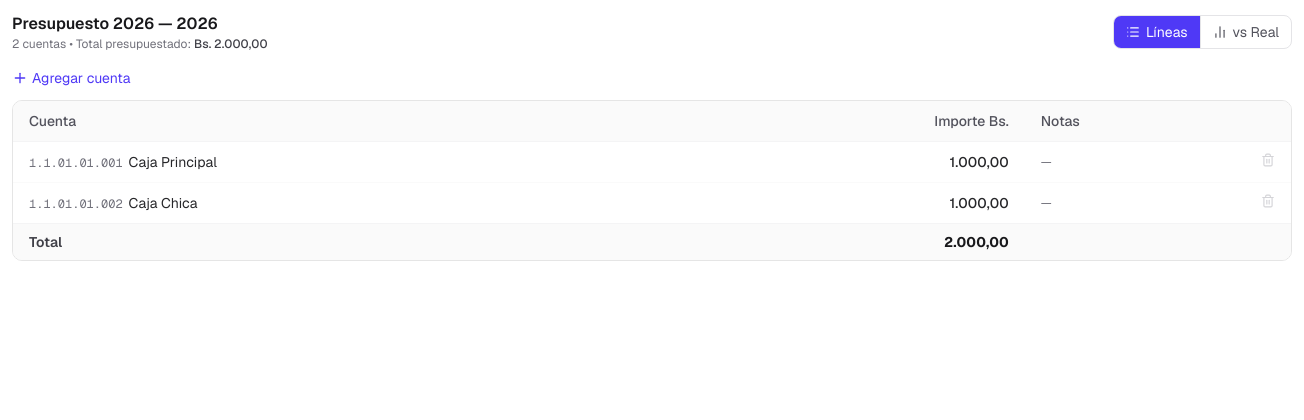
Test case: BudgetDetail — qué ofrece el selector › si se usan TODAS las cuentas de un grupo, buscar por el nombre de su título (CAJAS) no ofrece nada de ese grupo
Click the button "Agregar cuenta". click: (71, 78)
box: top-left (12, 68), bottom-right (130, 88)
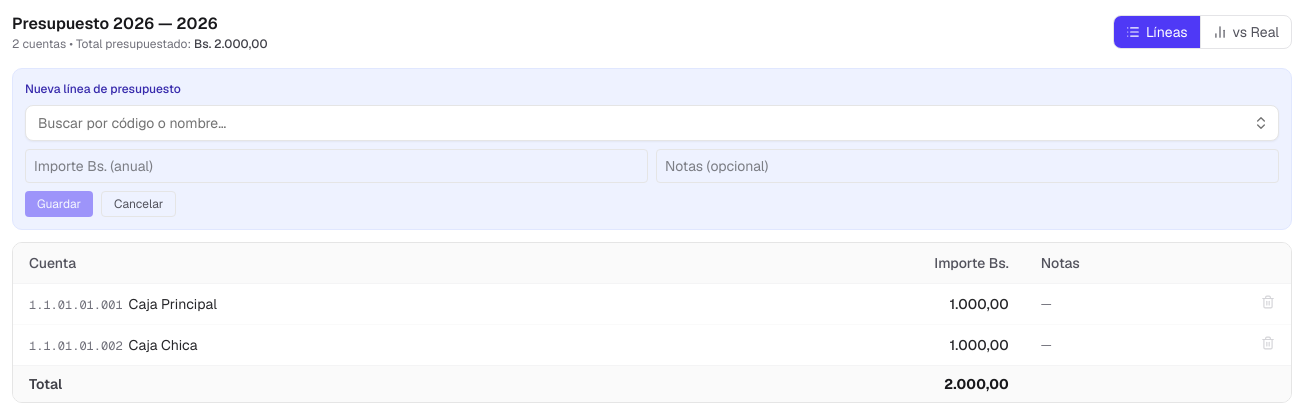
Type "cajas" into the dropdown. click: (652, 123)
box: top-left (25, 105), bottom-right (1279, 141)
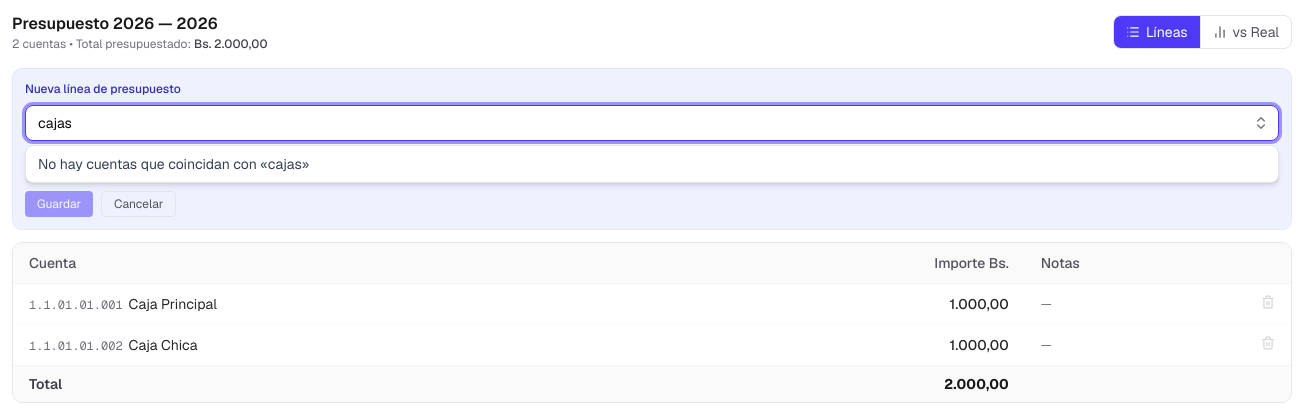
Now the text "No hay cuentas que coincidan" is shown, box top-left (38, 155), bottom-right (268, 173)
